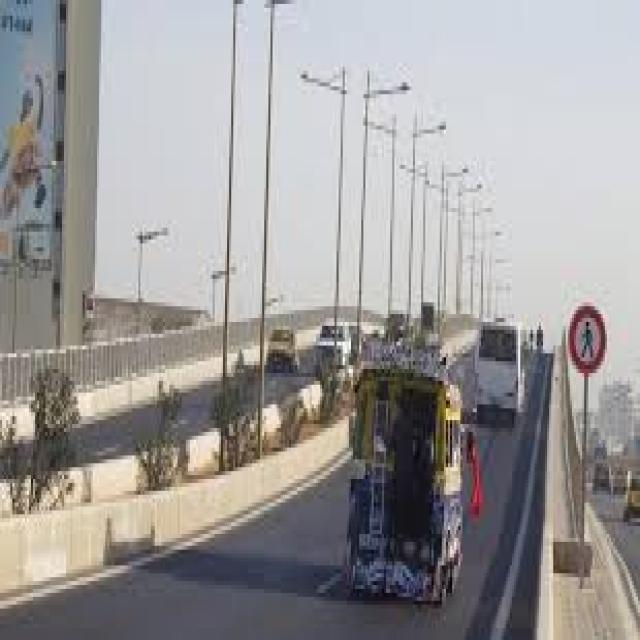car rapide: (351, 369, 464, 593)
fourgon: (478, 328, 525, 427)
